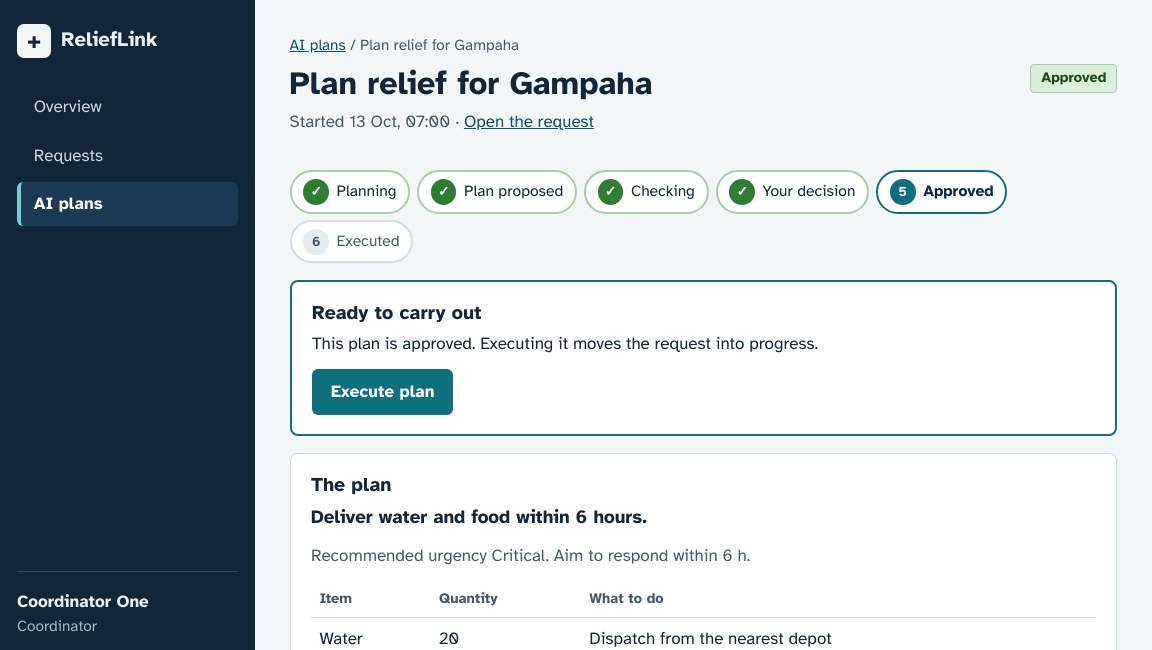
Test case: Workflow detail: actions › executes an approved plan
Click the button "Execute plan".
click(383, 392)  # box [312,369,453,415]
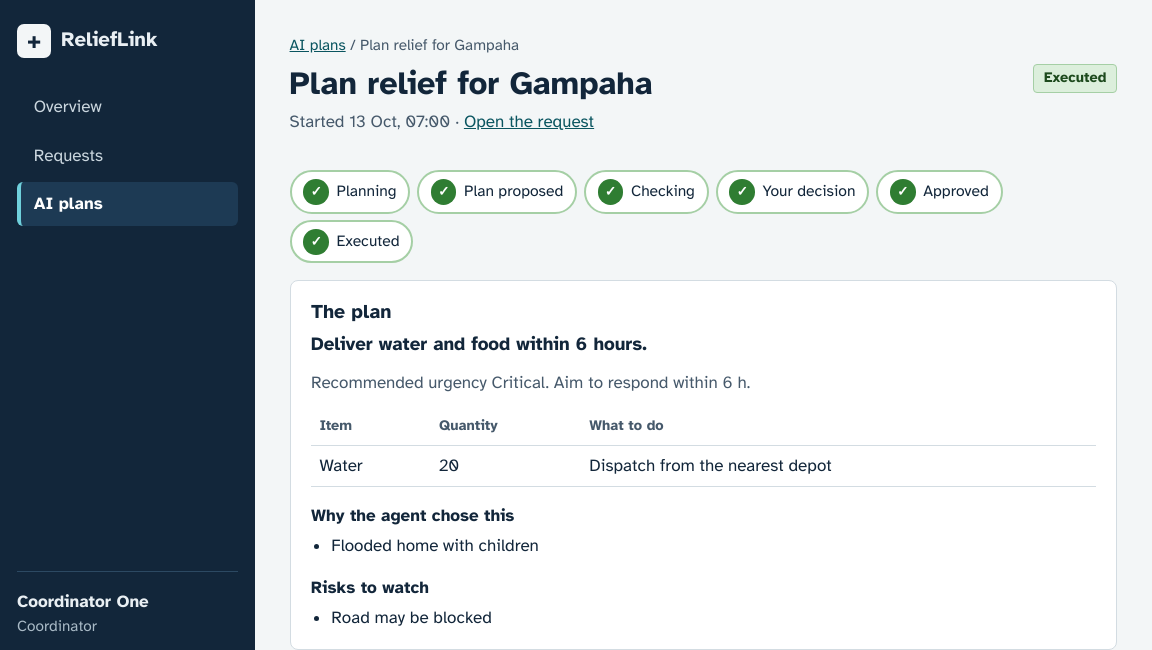
Check: the heading "The plan" is shown, box [311,299,392,324]
Check: the button "Execute plan" is gone
